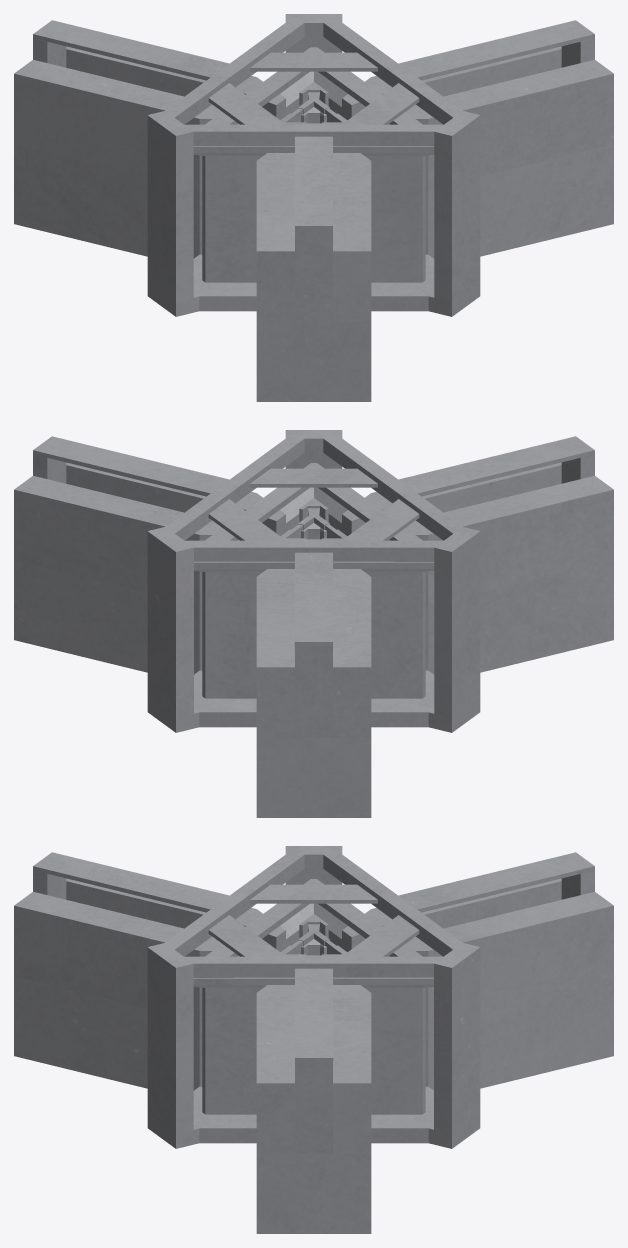
The model's file is lobby.glb.
3 renders of one model, top to bottom at view 1: azimuth 30°, elevation 25°; view 2: azimuth 150°, elevation 25°; view 3: azimuth 270°, elevation 25°, orthographic.
Visible parts, largest first — view 1: Circle.008; view 2: Circle.008; view 3: Circle.008.
Part boxes in pixels (x1,y1,x2,y2): Circle.008: (14,14,613,401); Circle.008: (14,430,613,817); Circle.008: (14,846,613,1233).
Size of the model in its own units: 115 by 44.2 by 133.
Materials: 1 (1 with a texture image).
